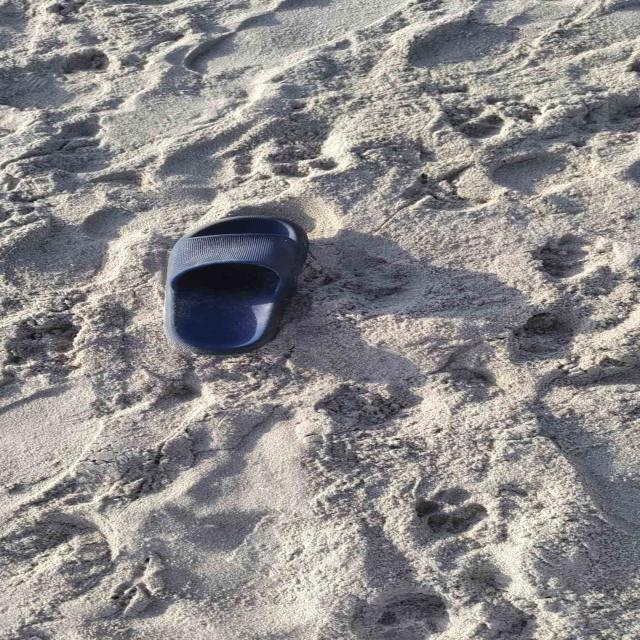dep: (164, 216, 306, 355)
